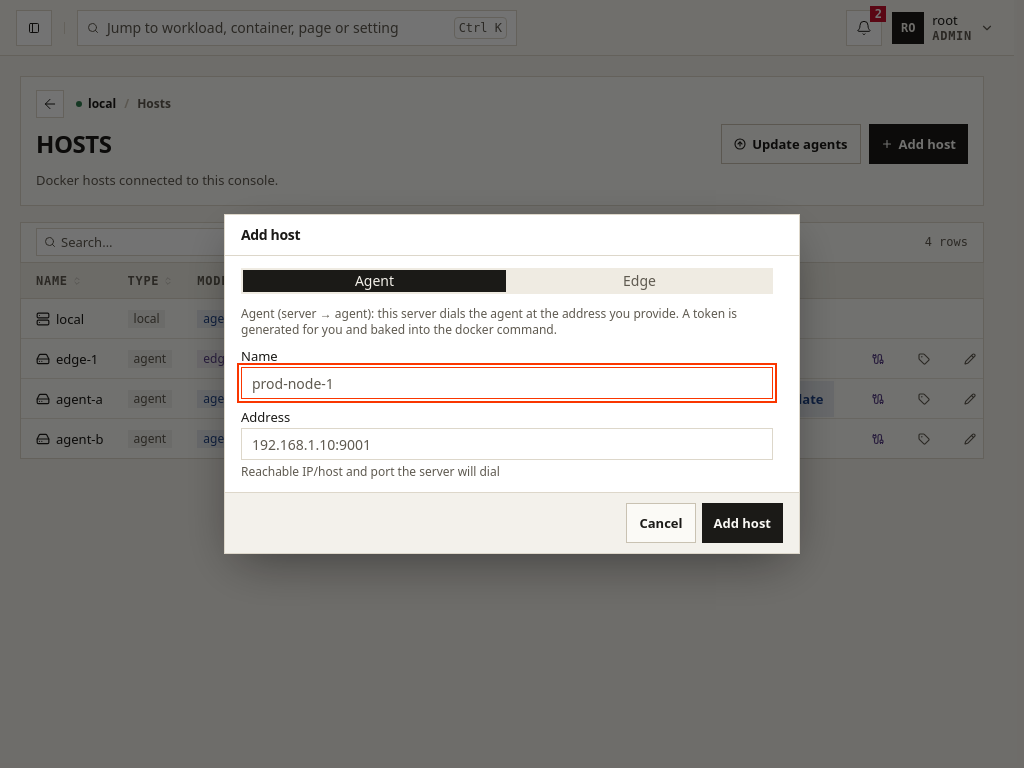
Test: hosts page › adds an edge host without an address and reports errors
Click the tab "Edge" at (640, 281), box [508, 270, 771, 292]
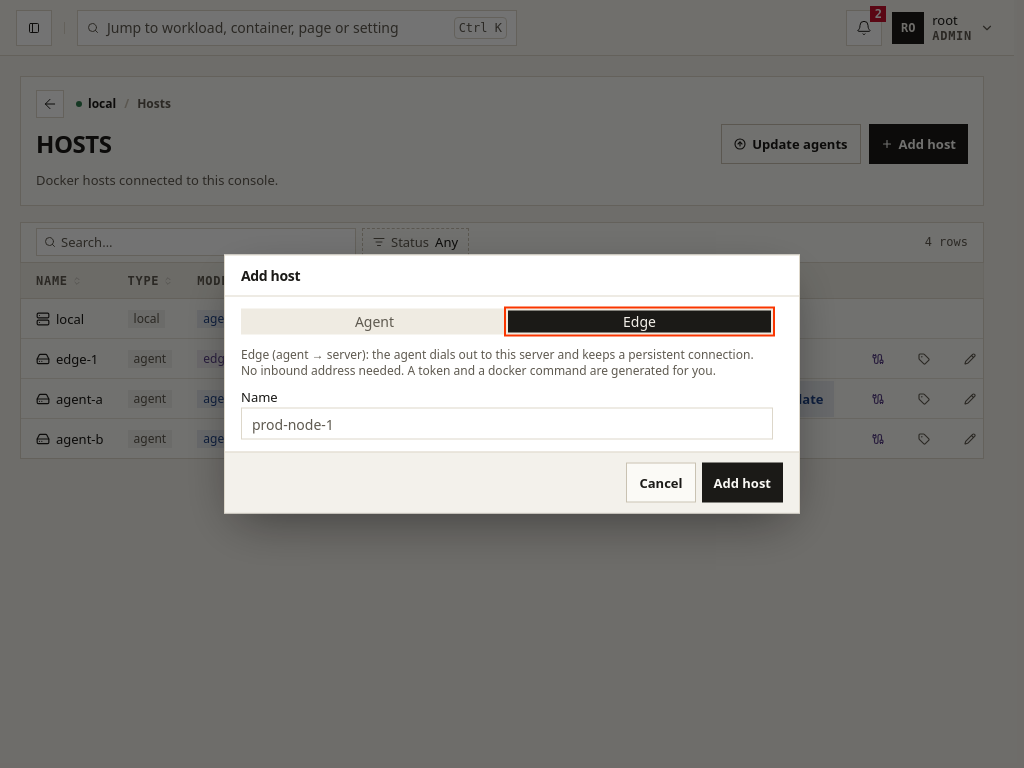
Type "edge-2" into the field labelled "Name" at (507, 424), box [241, 408, 773, 440]
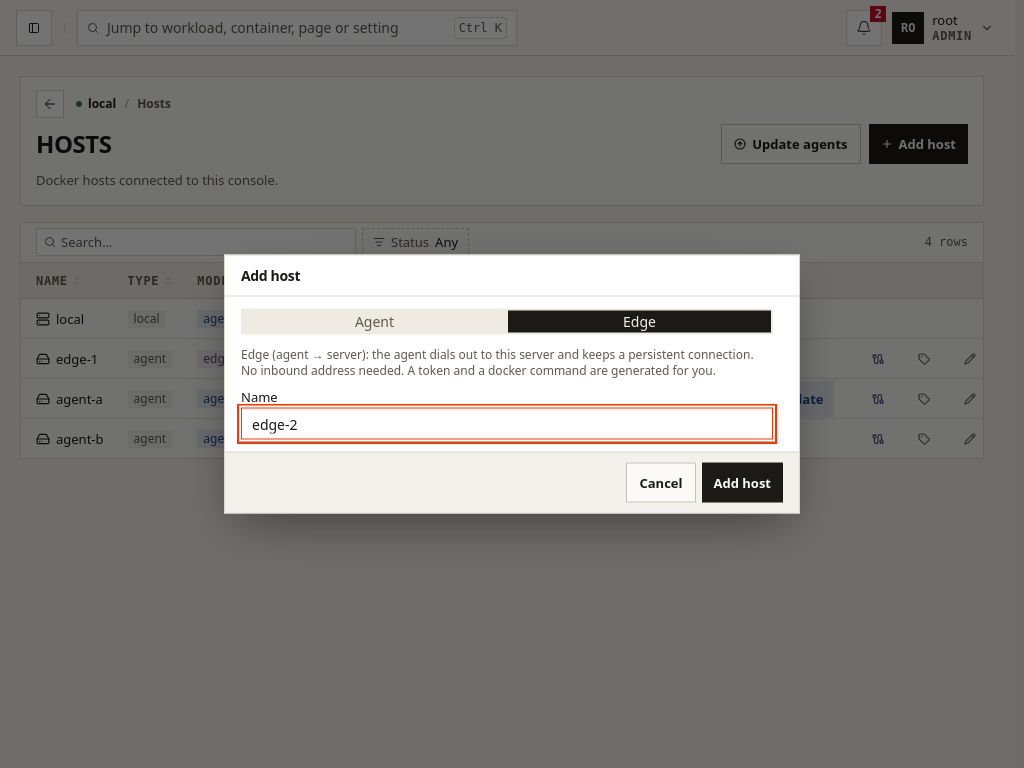
Click the button "Add host" at (742, 482), box [702, 462, 783, 502]
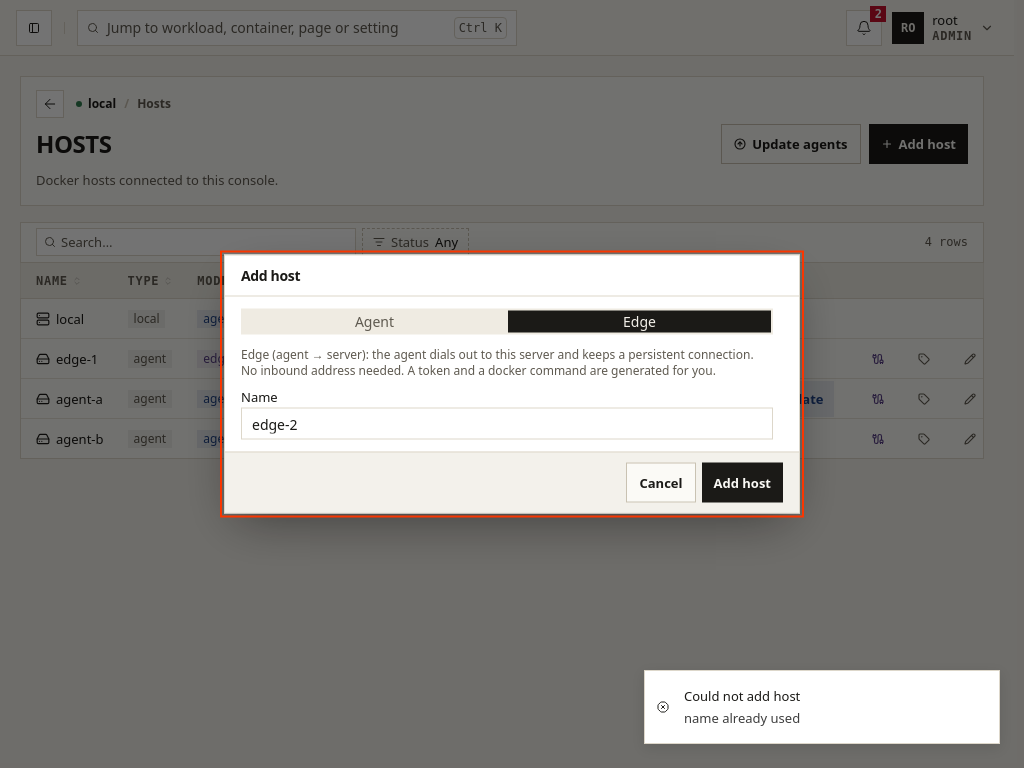
Now the text "name already used" is shown, box [684, 709, 800, 727]
